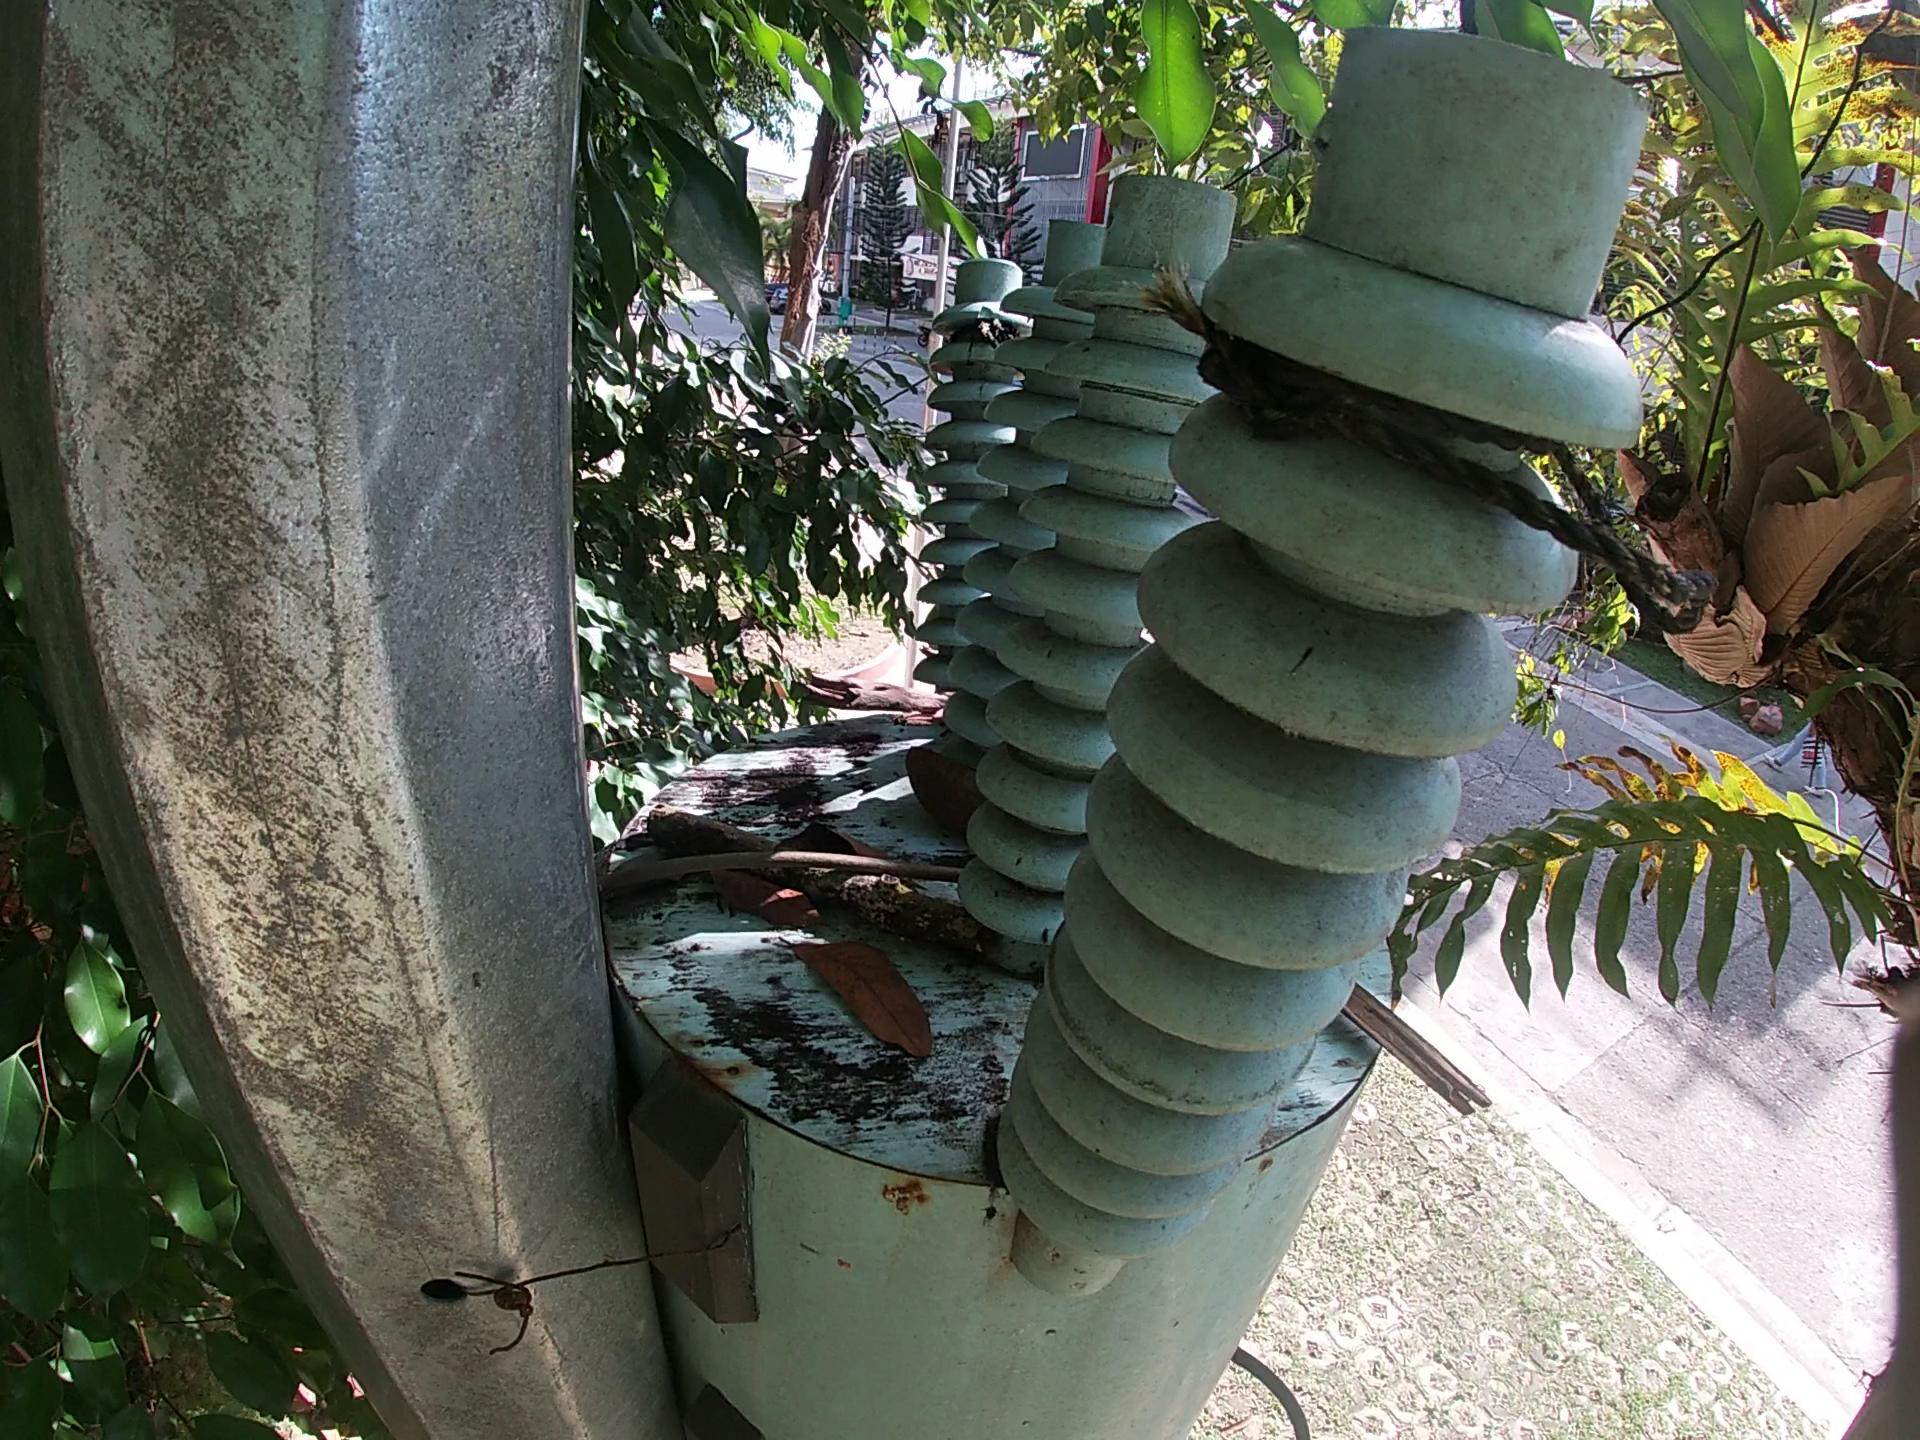leaf: (791, 930, 951, 1094), (708, 880, 842, 927)
mahogany fruit: (901, 764, 971, 812)
tree branch: (658, 806, 1058, 985), (1352, 985, 1504, 1147), (605, 850, 957, 902), (780, 646, 936, 732)
